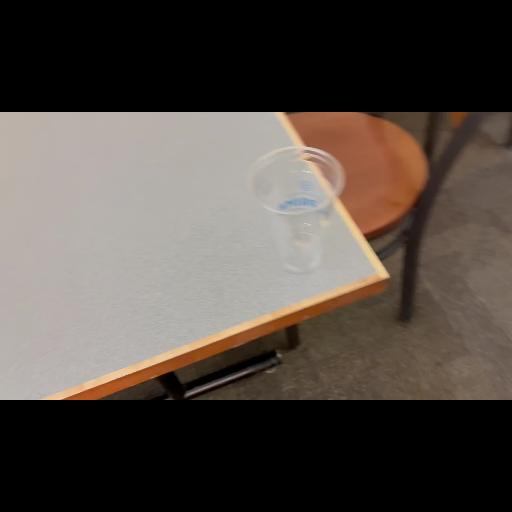lp_plastic_cup: (249, 148, 341, 274)
